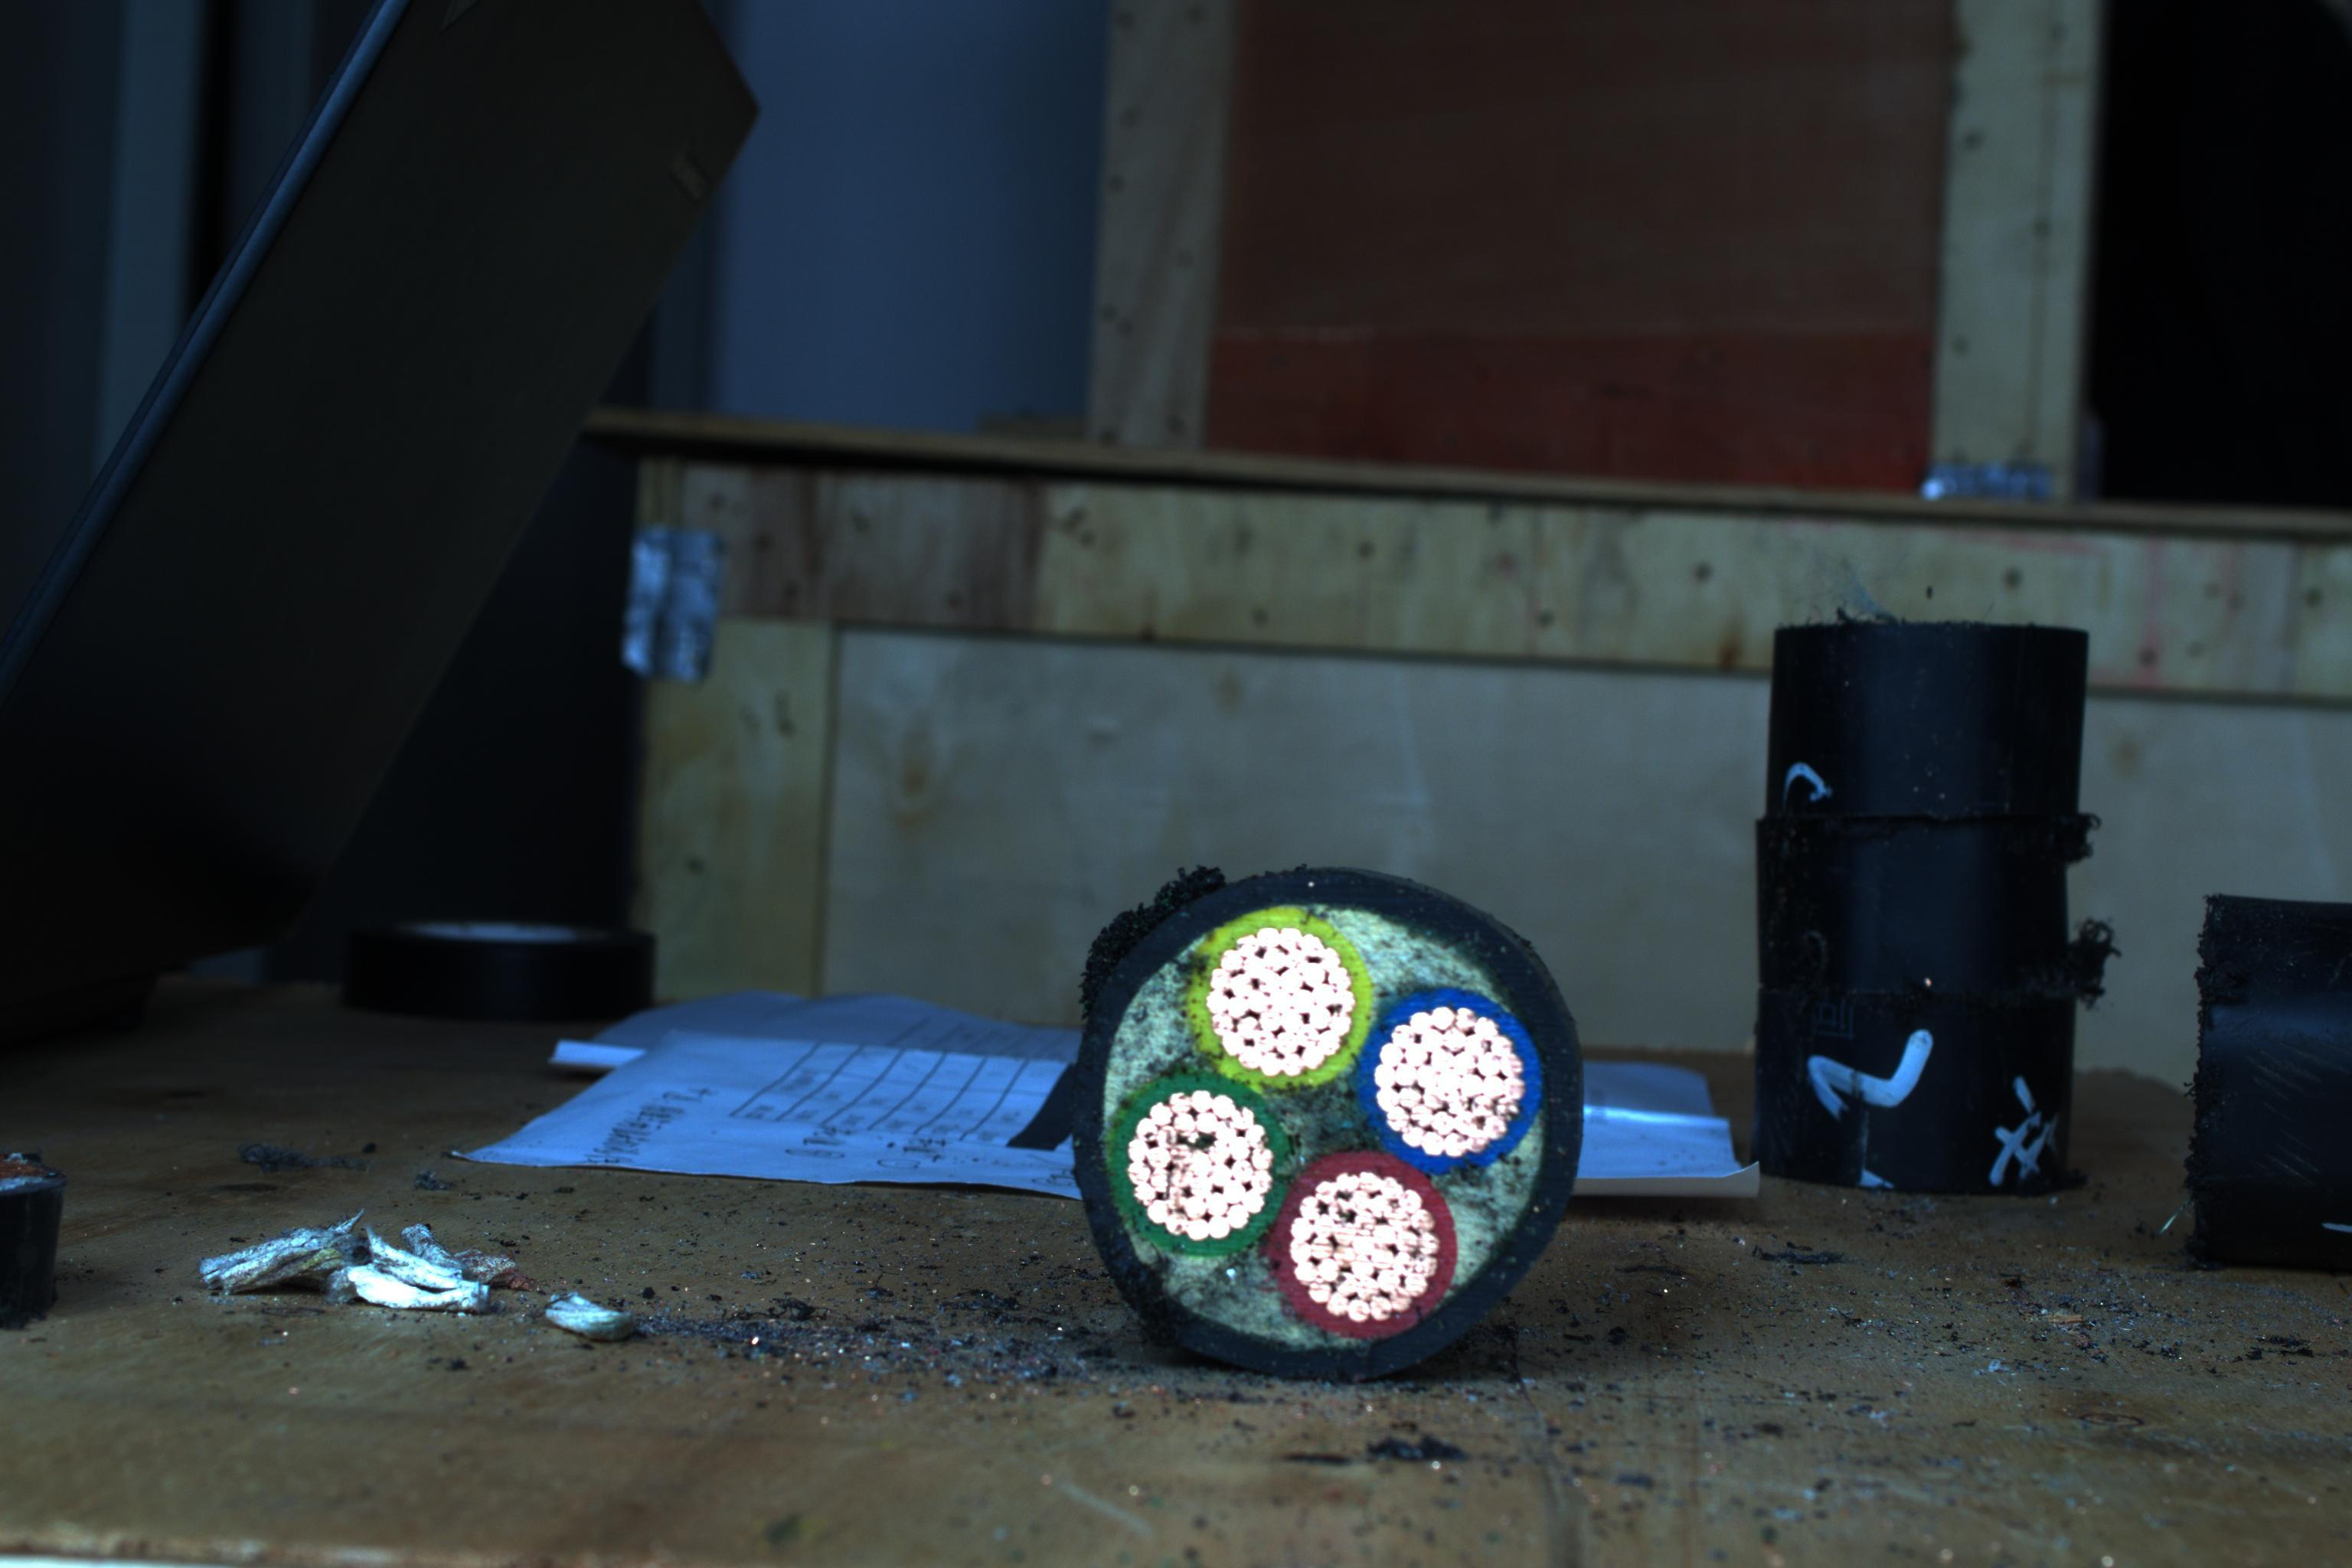YJV_0.6_1kV_4x185: (1080, 871, 1568, 1363)
